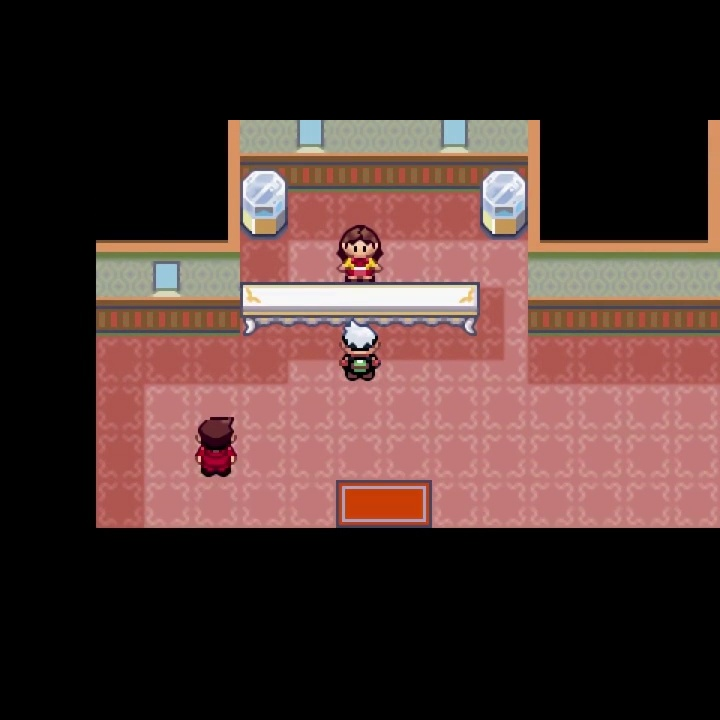exit: (334, 478, 435, 589)
npc: (331, 222, 387, 286), (193, 412, 240, 480), (338, 319, 382, 382)
